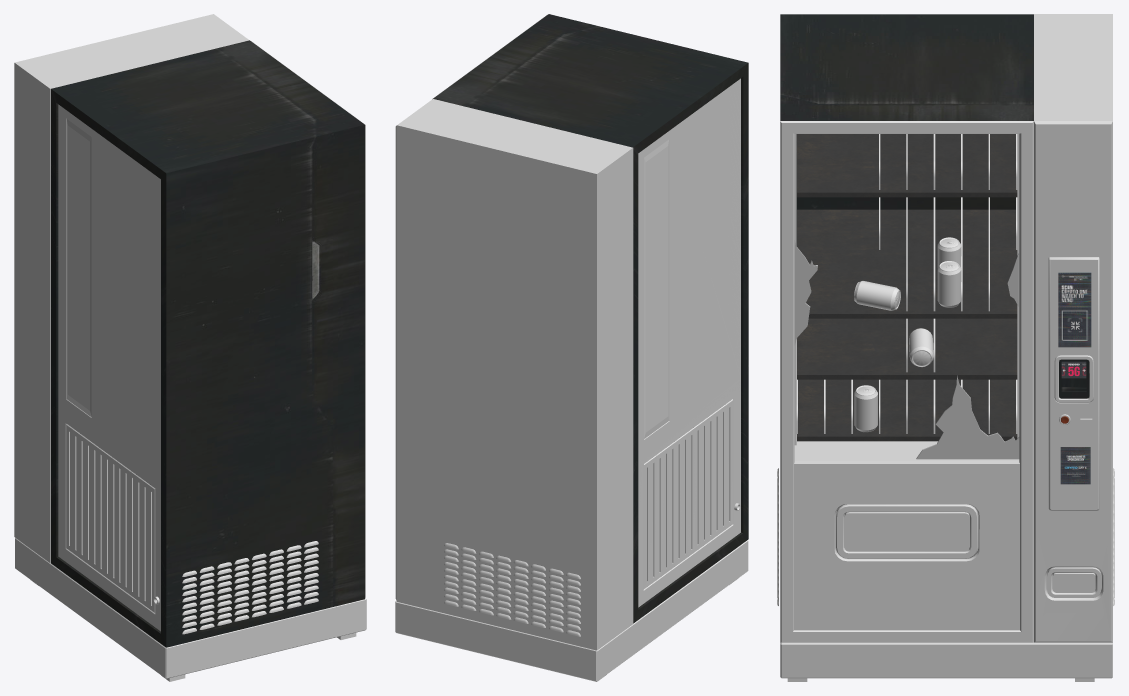
The model's file is VendingMachineB.fbx.
3 renders of one model, left to right at view 1: azimuth 30°, elevation 25°; view 2: azimuth 150°, elevation 25°; view 3: azimuth 270°, elevation 25°, orthographic. The views are drawn at different scales.
Visible parts, largest first — view 1: VendingMachineB; view 2: VendingMachineB; view 3: VendingMachineB.
Boxes of the visible parts, <box> form: VendingMachineB: <box>14,14,366,681</box>; VendingMachineB: <box>395,14,748,681</box>; VendingMachineB: <box>777,14,1114,681</box>.
Bounding box in the file's own units: 0.9243 × 2.19 × 1.19.
